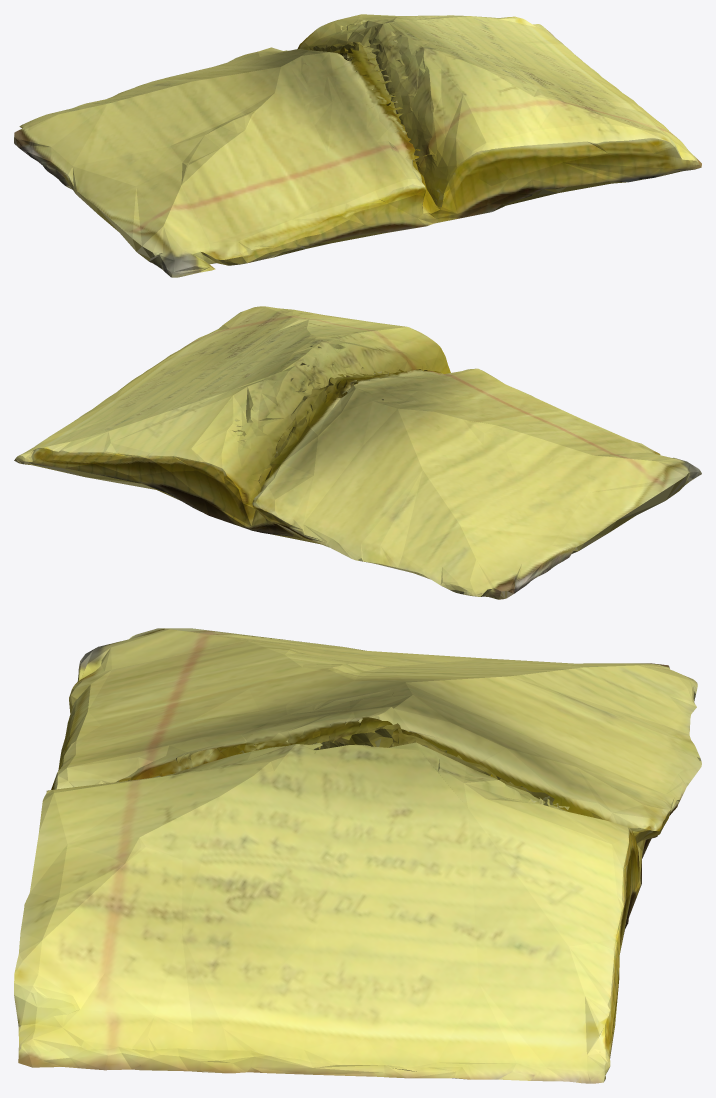
File: Notepad.obj
3 views of the same model, one above another, from view 1: azimuth 30°, elevation 25°; view 2: azimuth 150°, elevation 25°; view 3: azimuth 270°, elevation 25° (orthographic). The views are drawn at different scales.
Size of the model in its own units: 128 by 23.62 by 86.81.
Materials: 1 (1 with a texture image).
